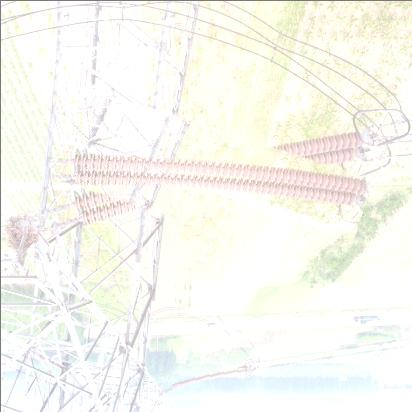insulator: (56, 107, 370, 250), (170, 364, 250, 393)
